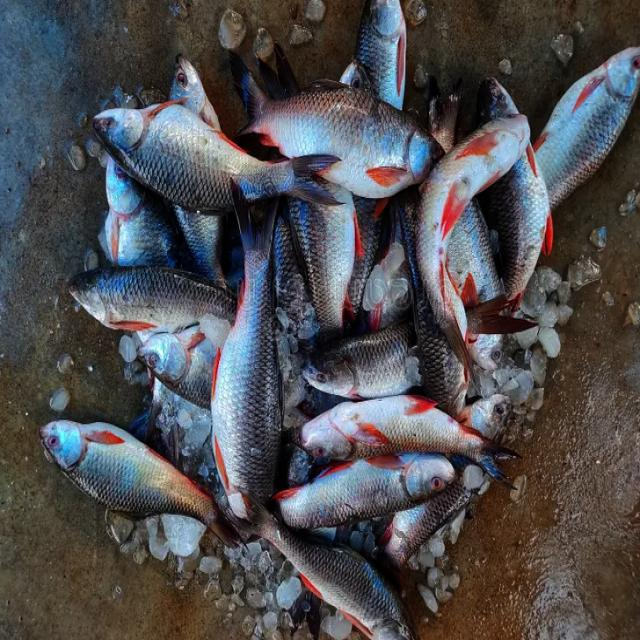Rohu: (94, 100, 343, 216)
